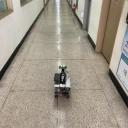cart: (54, 73, 71, 99)
